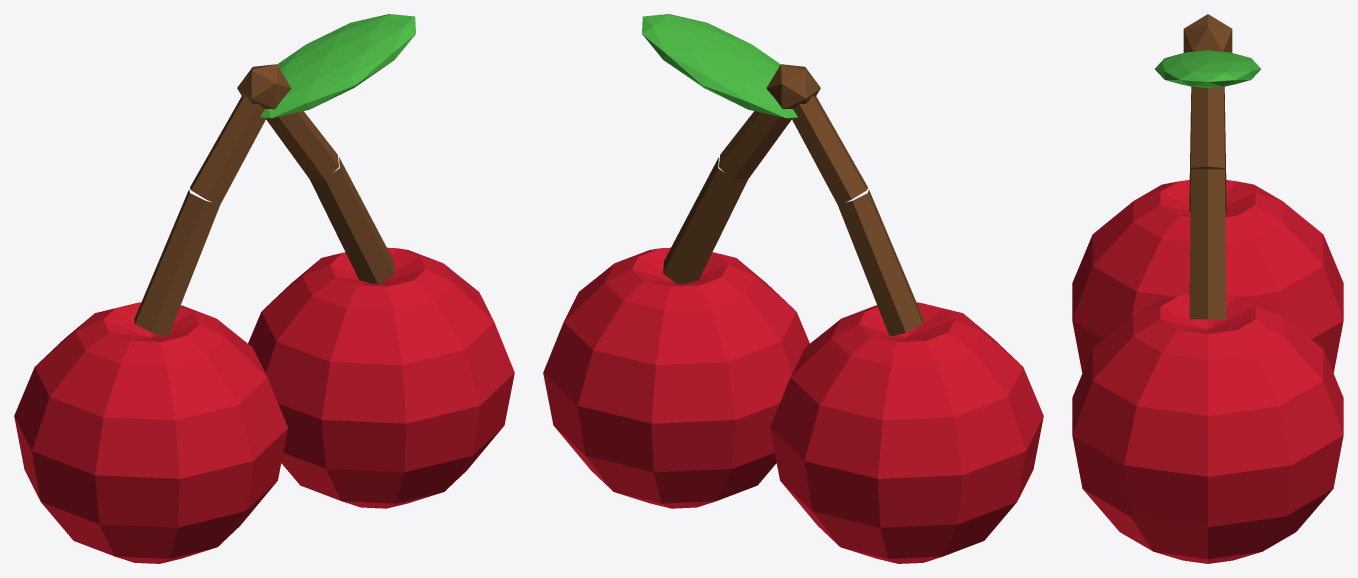
File: CherryFruit.glb
3 views of the same model, side by side, from view 1: azimuth 30°, elevation 25°; view 2: azimuth 150°, elevation 25°; view 3: azimuth 270°, elevation 25° (orthographic). The views are drawn at different scales.
Parts seen in each view (by area): view 1: CherryFruit_CherryBody, CherryFruit_CherryStem, CherryFruit_CherryLeaf; view 2: CherryFruit_CherryBody, CherryFruit_CherryStem, CherryFruit_CherryLeaf; view 3: CherryFruit_CherryBody, CherryFruit_CherryStem, CherryFruit_CherryLeaf.
Boxes of the visible parts, <box> form: CherryFruit_CherryBody: <box>14,247,514,563</box>; CherryFruit_CherryStem: <box>134,64,394,336</box>; CherryFruit_CherryLeaf: <box>260,14,415,118</box>; CherryFruit_CherryBody: <box>543,247,1043,563</box>; CherryFruit_CherryStem: <box>663,64,923,336</box>; CherryFruit_CherryLeaf: <box>642,14,797,118</box>; CherryFruit_CherryBody: <box>1072,180,1343,563</box>; CherryFruit_CherryStem: <box>1183,14,1232,319</box>; CherryFruit_CherryLeaf: <box>1155,50,1260,87</box>.
Size of the model in its own units: 1 by 0.9577 by 0.4877.
